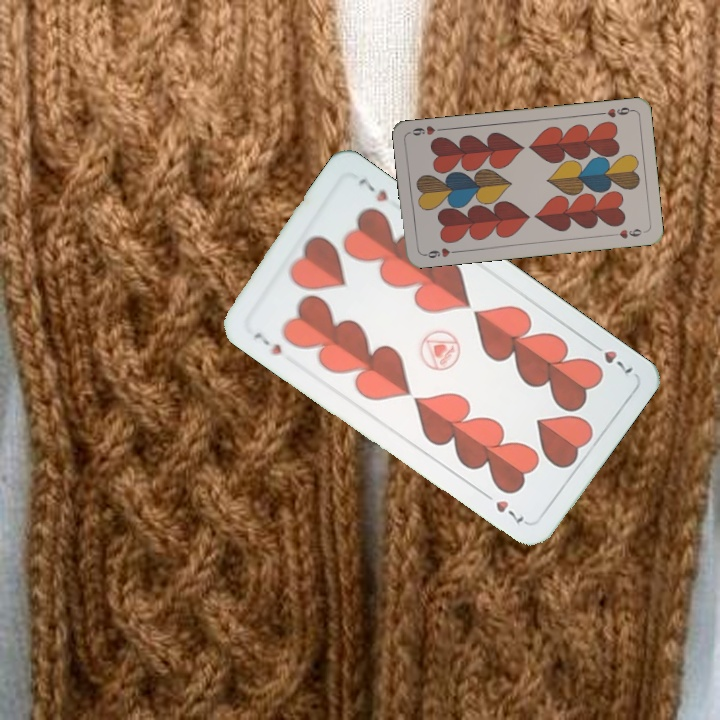H7: (585, 337, 635, 379), (249, 327, 285, 358)
H9: (594, 103, 635, 120), (419, 244, 460, 261)
